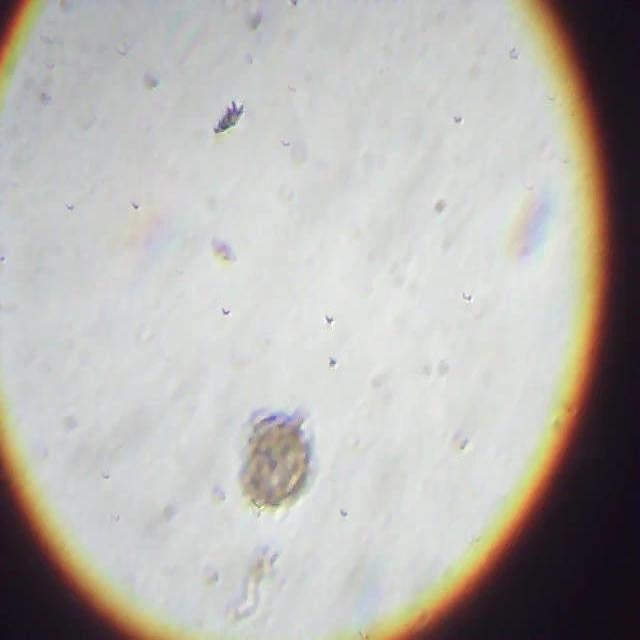alexandrium: (238, 418, 331, 519)
